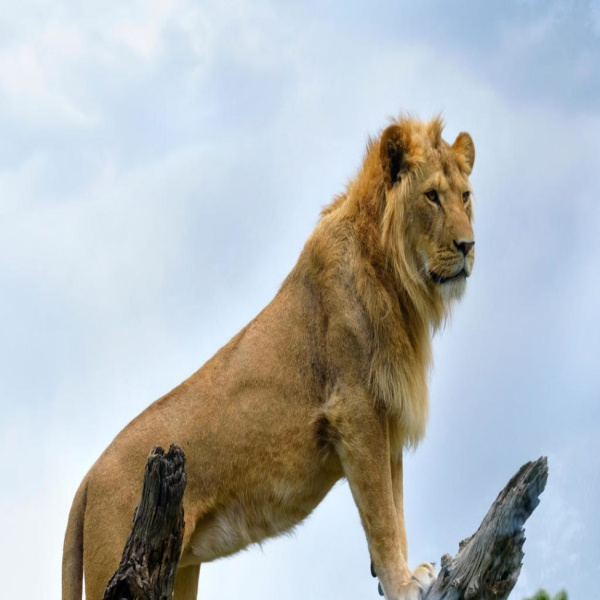Lion: (58, 110, 479, 598)
